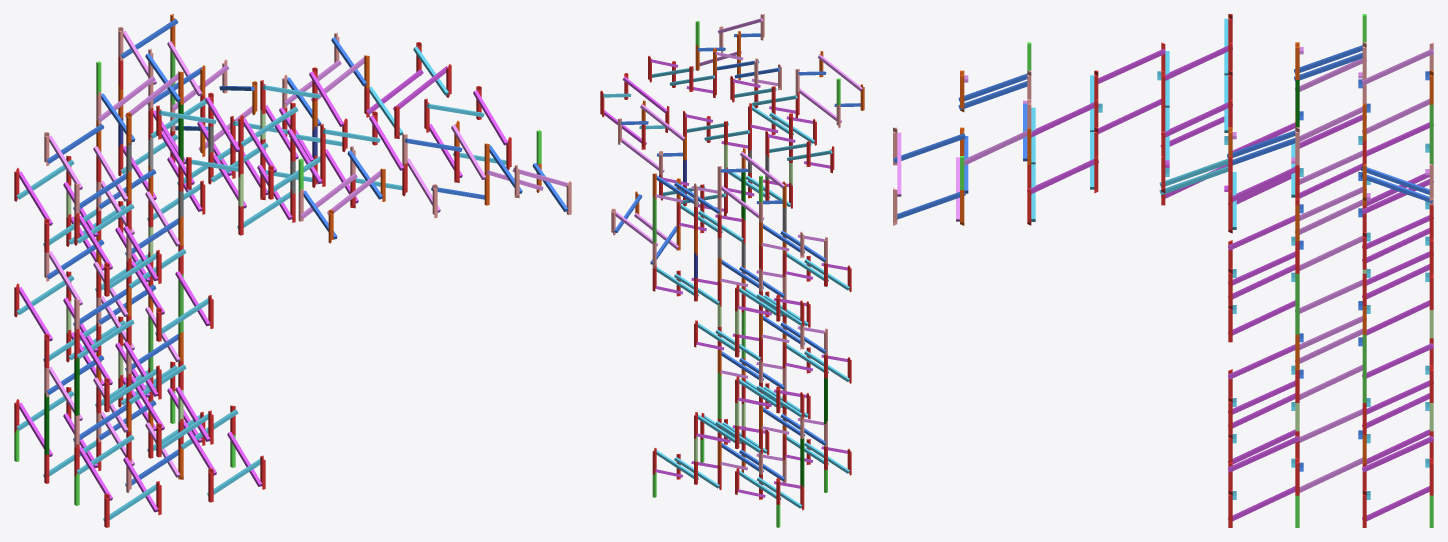
The model's file is GlobalModel_color.obj.
3 views of the same model, side by side, from view 1: azimuth 30°, elevation 25°; view 2: azimuth 150°, elevation 25°; view 3: azimuth 270°, elevation 25° (orthographic). The views are drawn at different scales.
Size of the model in its own units: 3.44 by 4.24 by 4.56.
